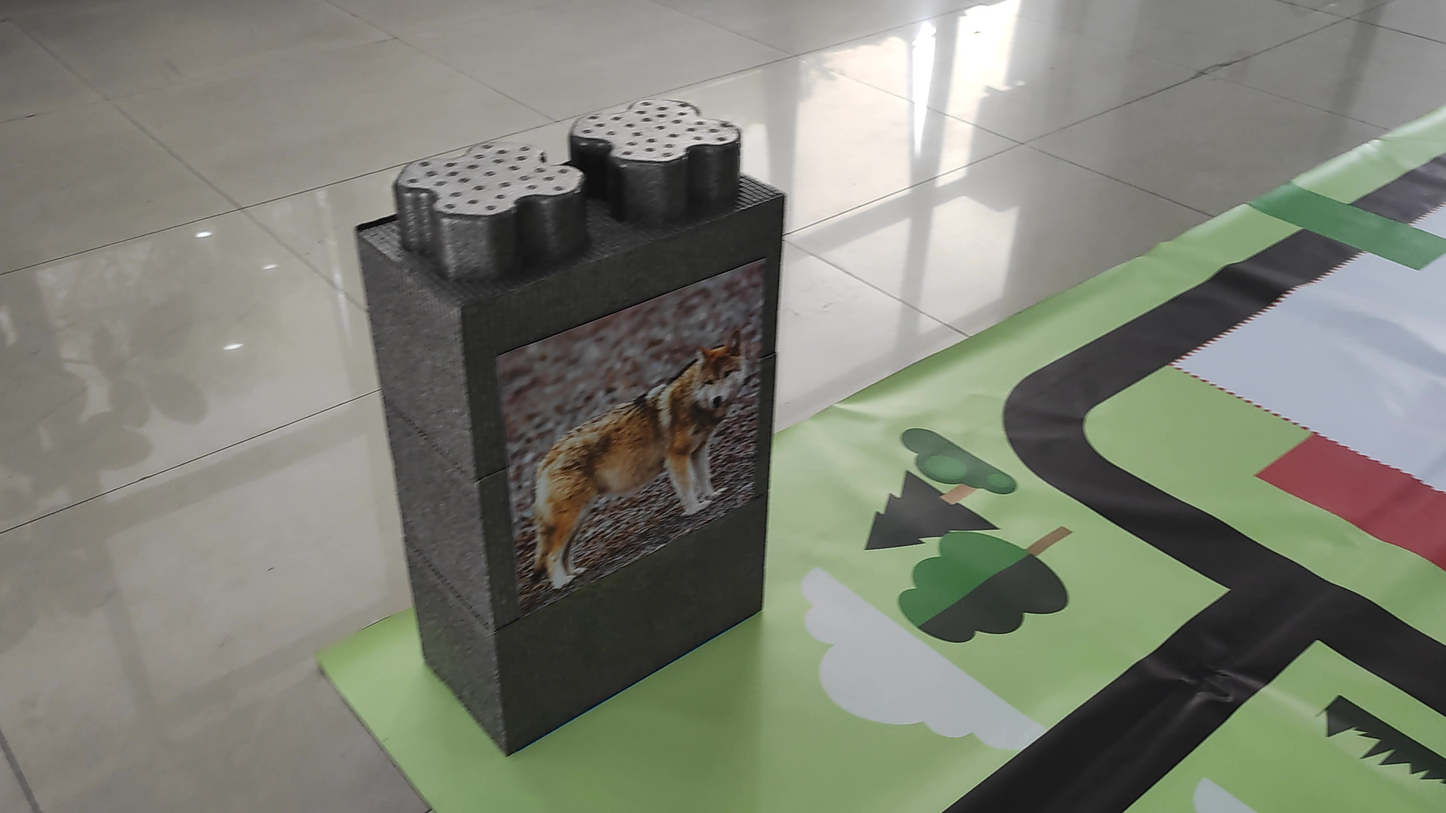wolf: (529, 330, 774, 560)
